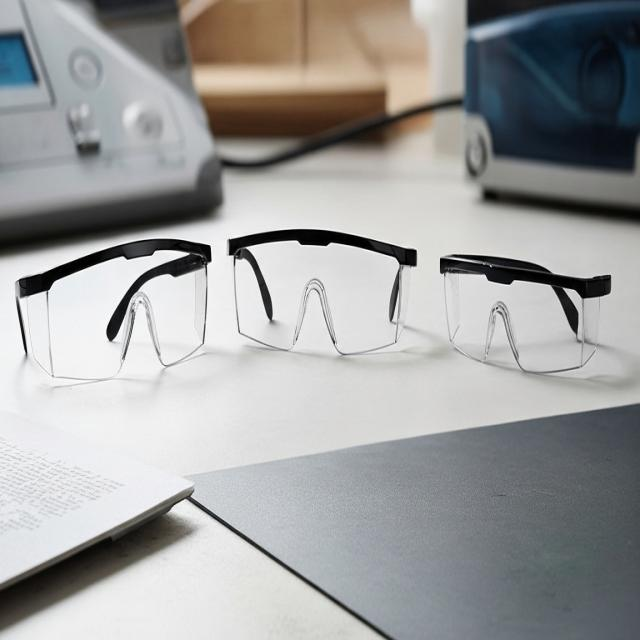oculos-epi: (15, 238, 211, 379), (228, 229, 417, 354), (440, 254, 610, 372)
